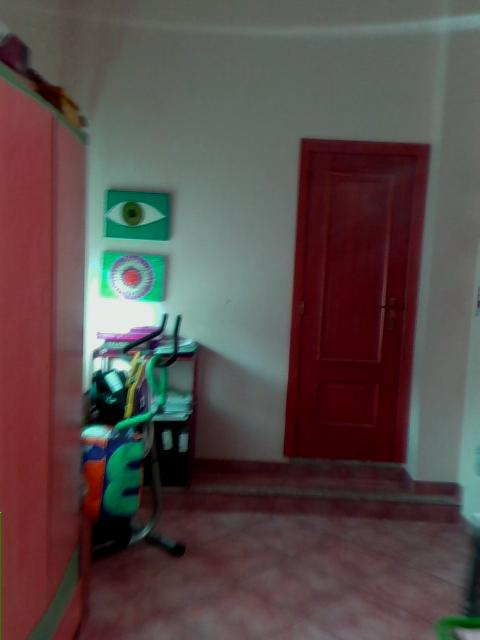closed_door: (283, 137, 430, 473)
